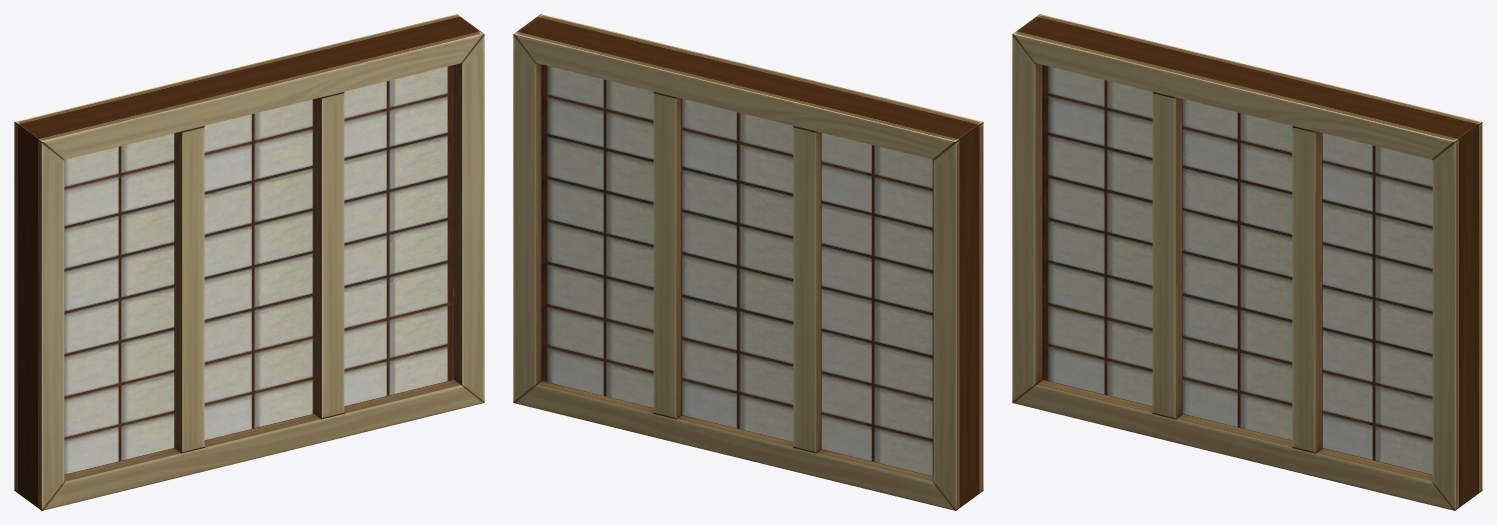
Rendered from Window1.b.fbx.
3 views of the same model, side by side, from view 1: azimuth 30°, elevation 25°; view 2: azimuth 150°, elevation 25°; view 3: azimuth 330°, elevation 25° (orthographic).
Parts seen in each view (by area): view 1: Group 0; view 2: Group 0; view 3: Group 0.
Part boxes in pixels (x1,y1,x2,y2): Group 0: [14, 14, 484, 510]; Group 0: [513, 14, 983, 510]; Group 0: [1012, 14, 1482, 510].
Bounding box in the file's own units: 188 × 150 × 20.31.
5 materials, 5 textured.
